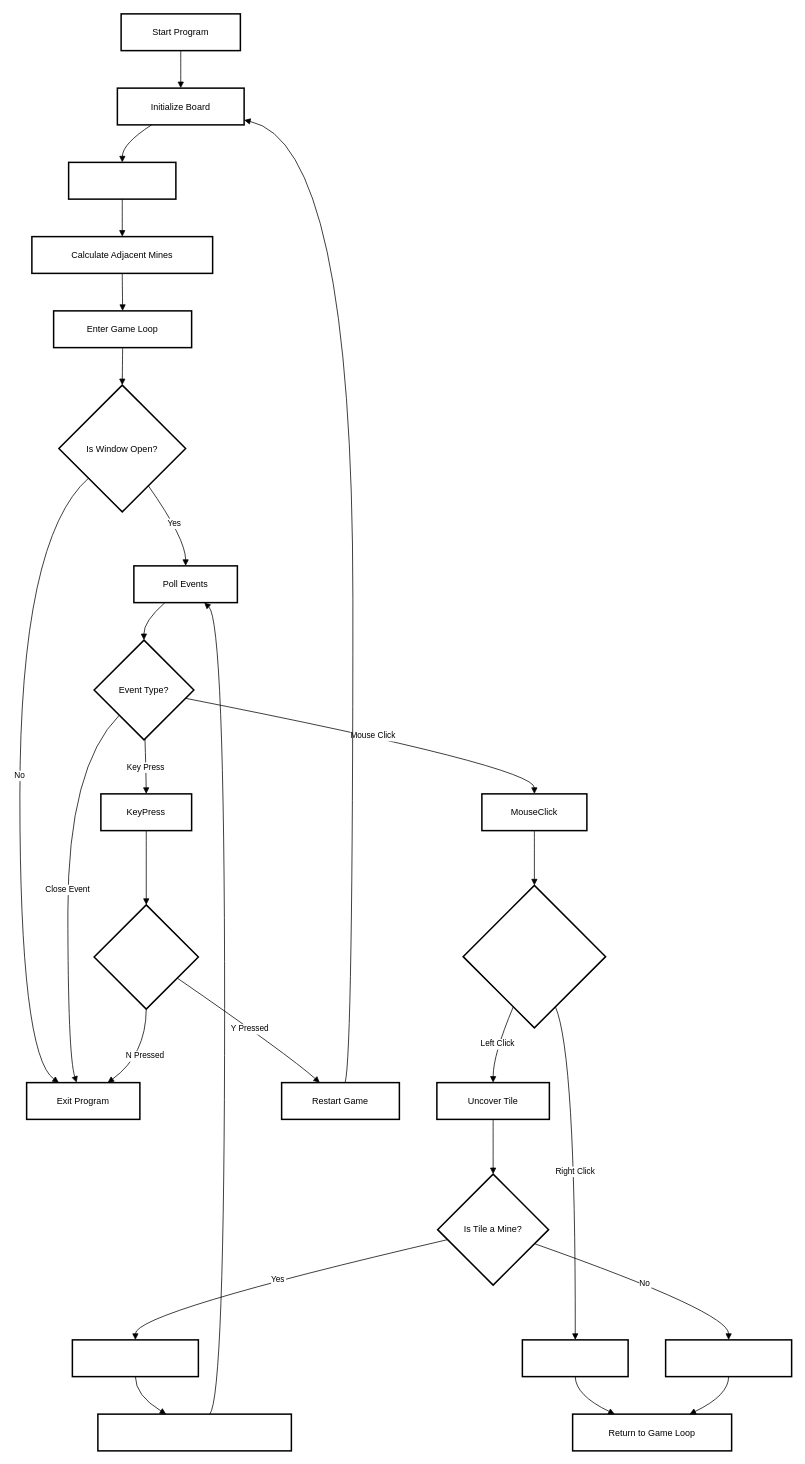
Image size: 805x1464. Some labels were removed from this diagram. Here are the shapes that lost their labels. From the top down, the centre of each, then its label:
At point (122, 180): "Place Mines".
At point (146, 957): "Key Pressed?".
At point (534, 956): "Mouse Button Type?".
At point (135, 1358): "Set Game Over".
At point (574, 1358): "Toggle Flag".
At point (728, 1358): "Uncover Tile(s)".
At point (194, 1432): "Display Game Over Message".
